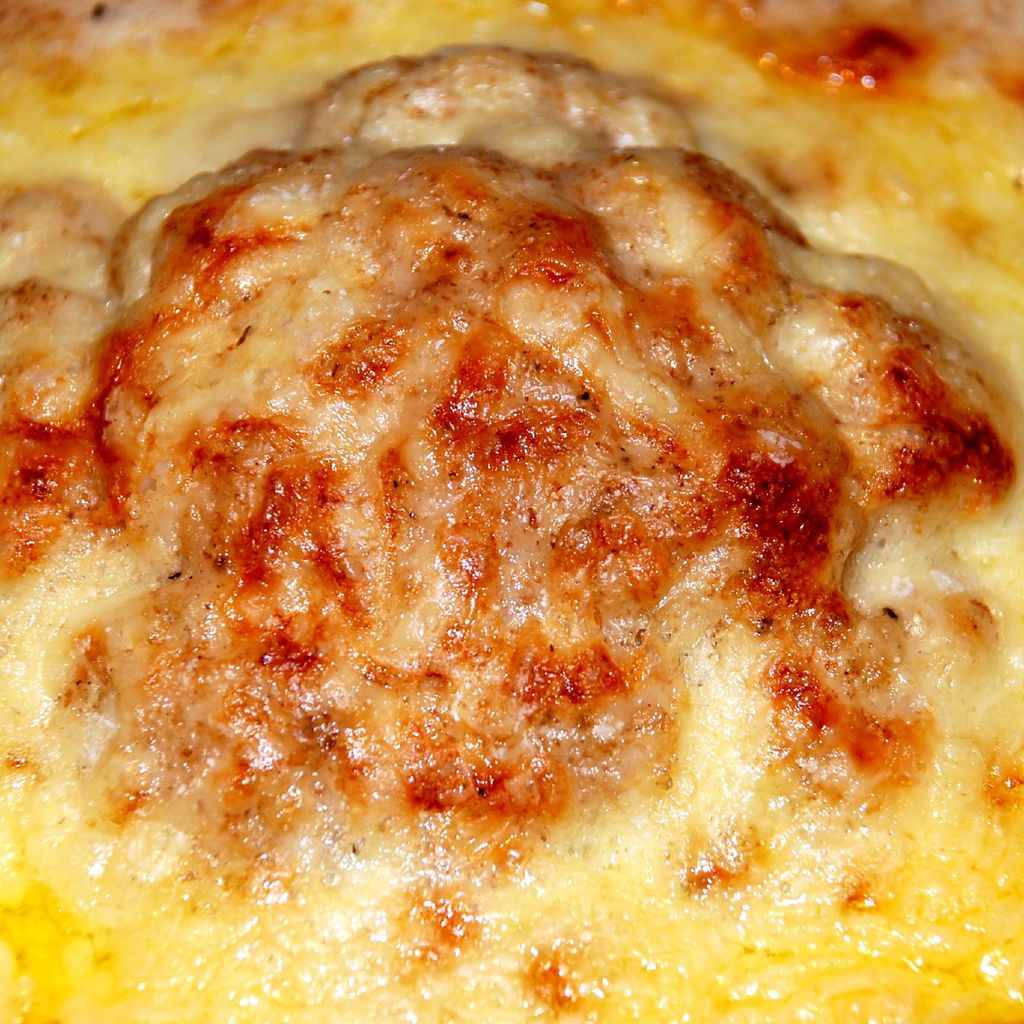Pizza: (0, 21, 1022, 1024)
